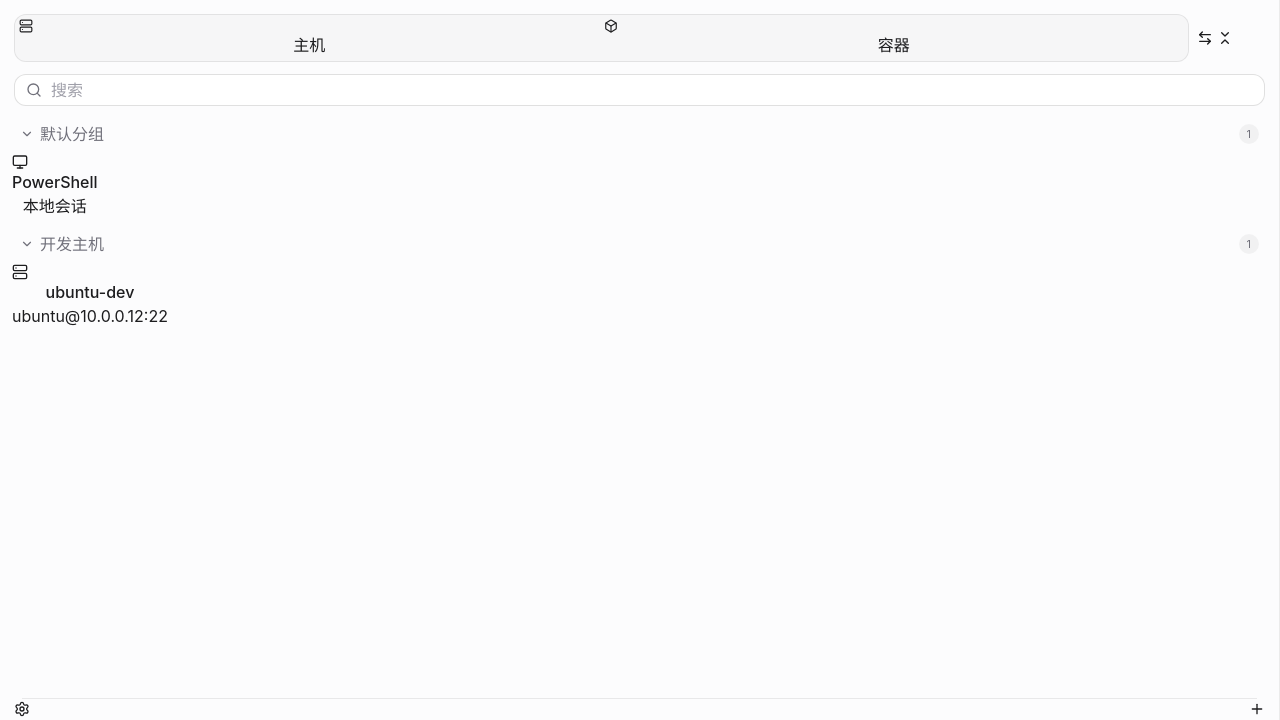
Scenario: MachineSidebar › collapses and expands all groups from the header action
Check: the button "PowerShell 本地会话" is shown, box [12,154,98,218]
Check: the button "ubuntu-dev ubuntu@10.0.0.12:22" is shown, box [12,264,168,328]
Click the button named "折叠所有分组". click: click(1225, 38)
box: [1217,30,1233,46]
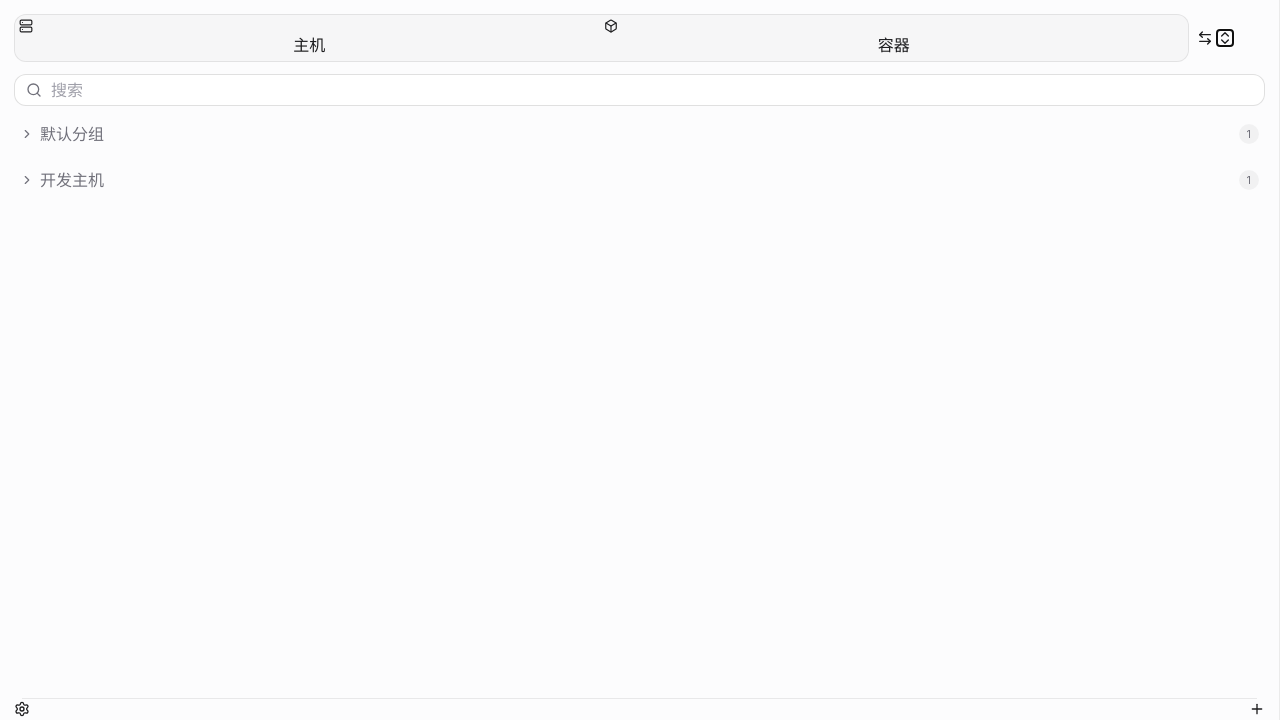
Check: the button "PowerShell" is gone
Check: the button "ubuntu-dev" is gone
Click the button named "展开所有分组". click: click(1225, 38)
box: [1217,30,1233,46]
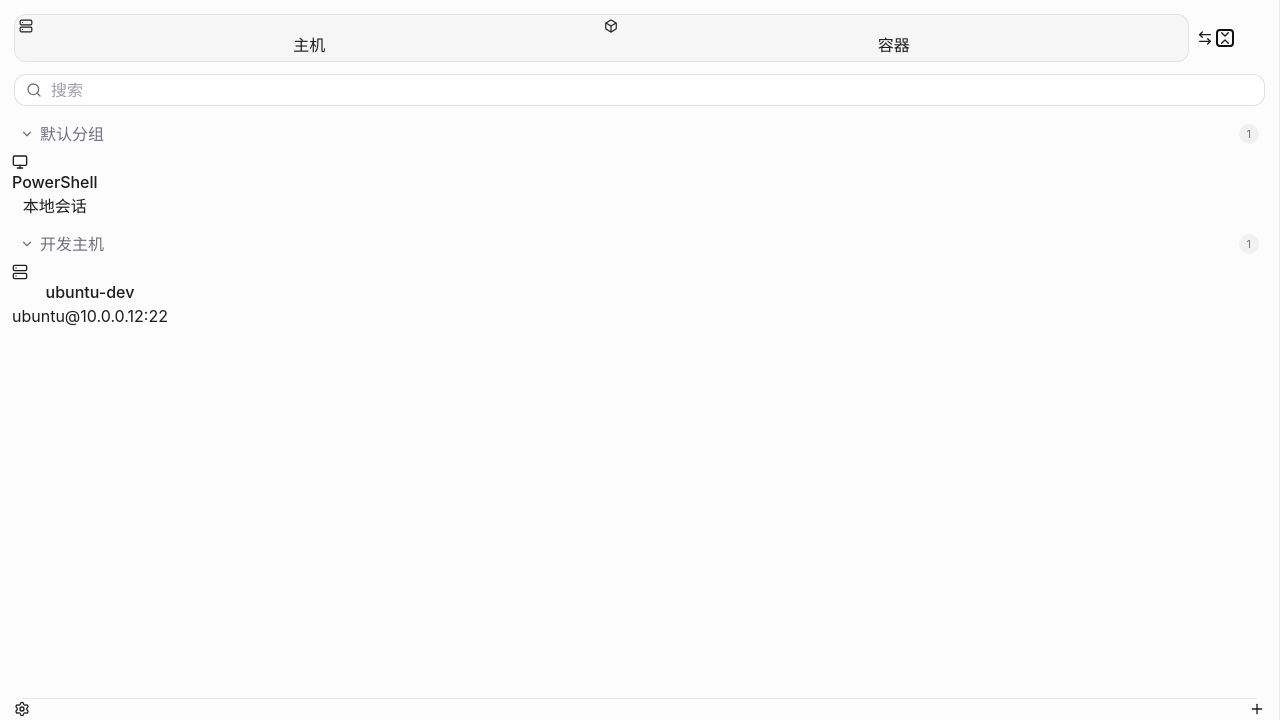
Check: the button "PowerShell 本地会话" is shown, box [12,154,98,218]
Check: the button "ubuntu-dev ubuntu@10.0.0.12:22" is shown, box [12,264,168,328]
